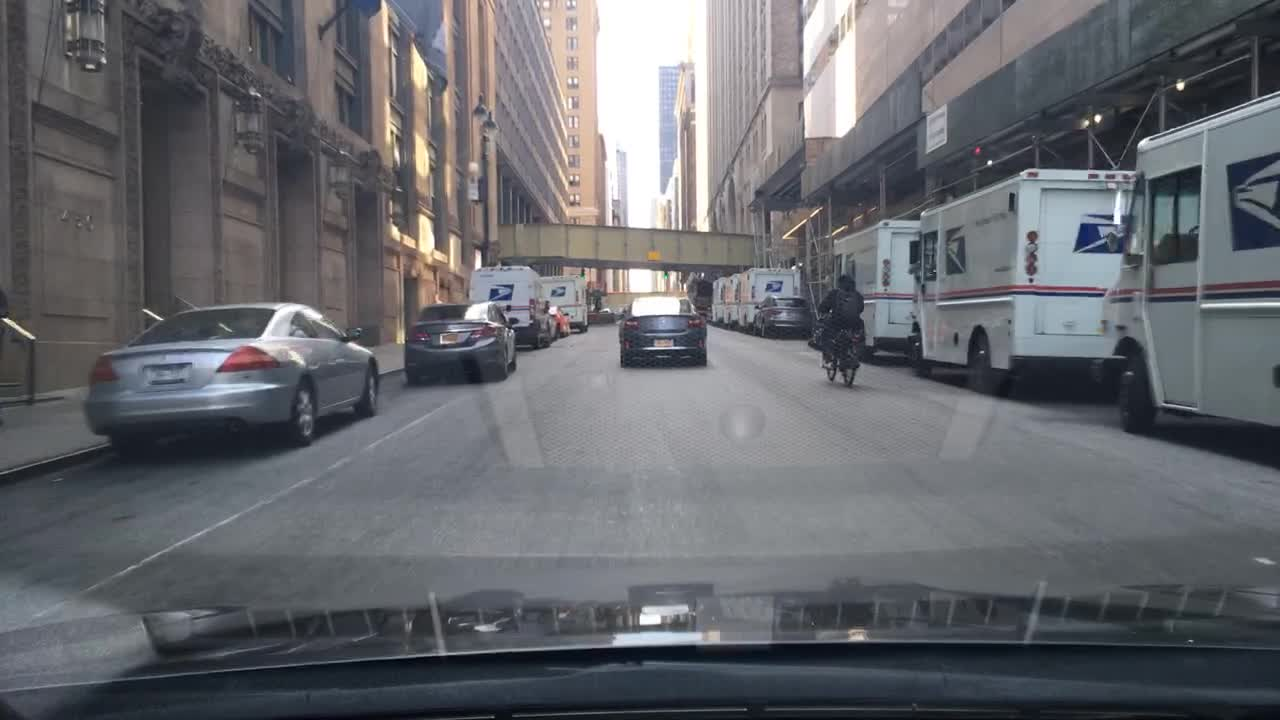bike: (812, 306, 864, 384)
car: (82, 301, 381, 451), (404, 303, 518, 382), (616, 295, 707, 369), (750, 292, 812, 340)
rider: (815, 275, 863, 364)
traffic light: (659, 268, 670, 280)
truck: (1093, 90, 1276, 445), (902, 168, 1155, 396), (829, 217, 926, 360), (465, 263, 546, 349), (740, 268, 800, 334), (541, 272, 589, 329), (722, 274, 745, 324), (710, 277, 730, 324)
